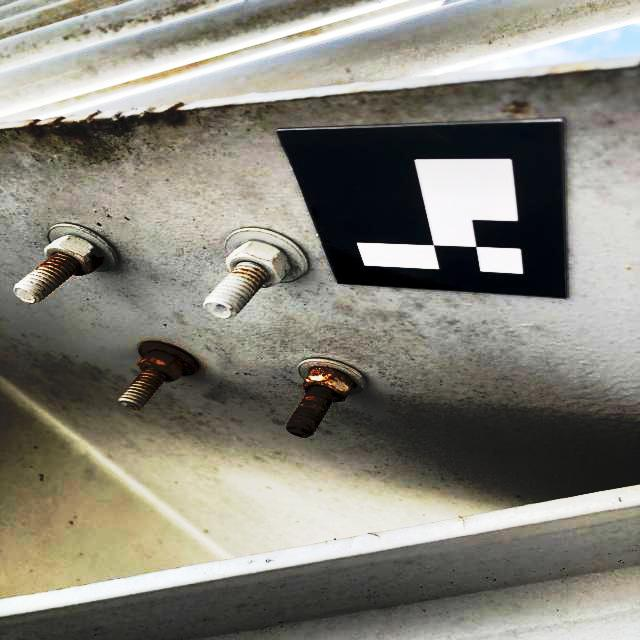Corrosion: (286, 365, 359, 438), (124, 341, 199, 397), (35, 248, 104, 286), (230, 265, 268, 295)
